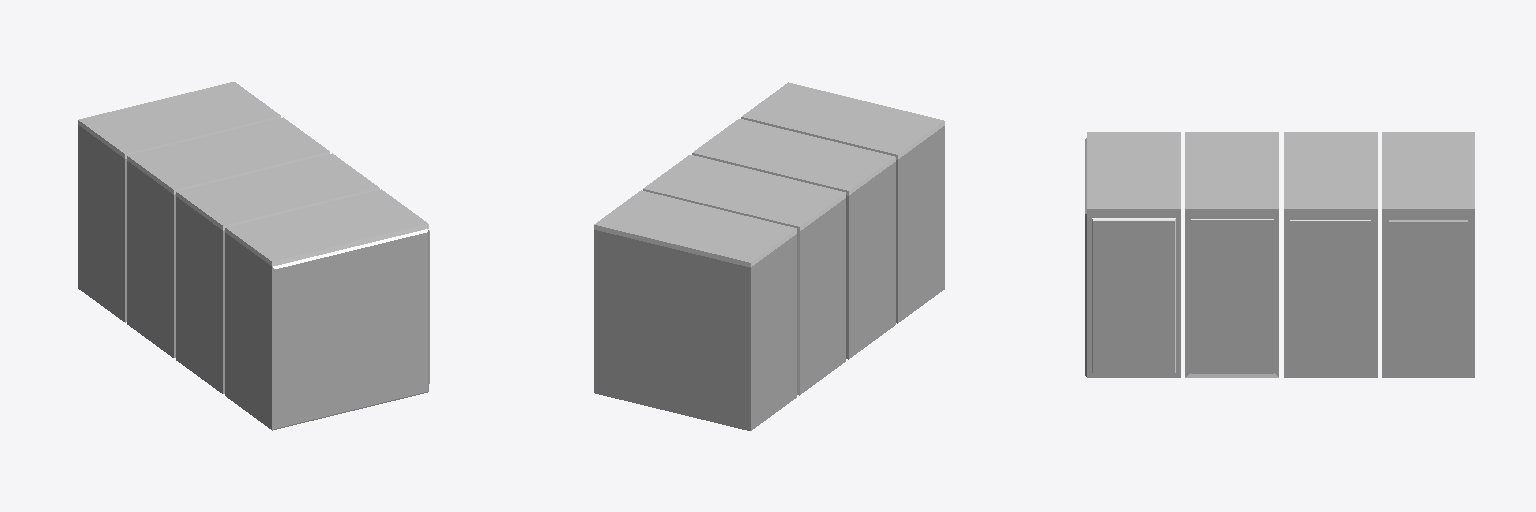
File: server computer.obj
3 views of the same model, side by side, from view 1: azimuth 30°, elevation 25°; view 2: azimuth 150°, elevation 25°; view 3: azimuth 270°, elevation 25° (orthographic).
Visible parts, largest first — view 1: server; view 2: server; view 3: server.
Part boxes in pixels (x1,y1,x2,y2): server: (78, 82, 429, 430); server: (594, 82, 944, 430); server: (1085, 132, 1474, 377).
Bounding box in the file's own units: 205 × 206 × 433.